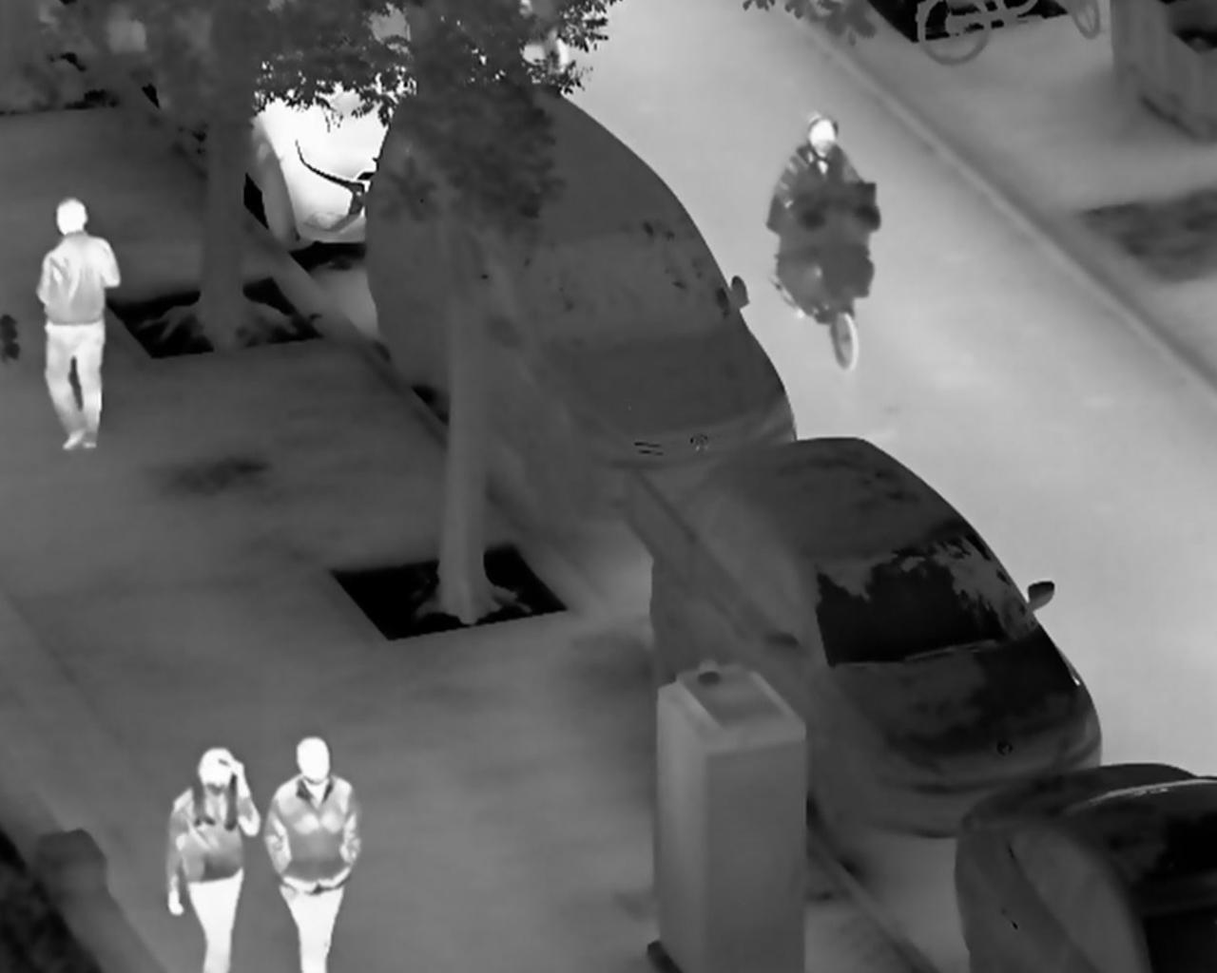person: (760, 110, 879, 322), (261, 736, 365, 973), (33, 197, 125, 456), (164, 745, 260, 973)
